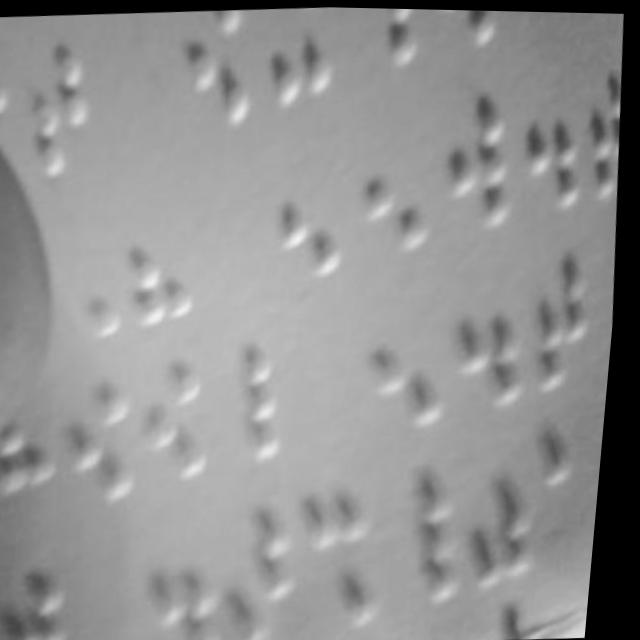braiile: (503, 71, 592, 229), (116, 193, 212, 339), (450, 262, 538, 417), (12, 37, 97, 196), (369, 290, 457, 443), (308, 491, 398, 636), (468, 448, 554, 596), (433, 90, 524, 229), (391, 469, 478, 613), (161, 6, 259, 133), (524, 255, 610, 399), (141, 355, 228, 493), (66, 374, 152, 512), (274, 149, 355, 289), (231, 514, 320, 640), (357, 123, 439, 256), (148, 522, 238, 640), (216, 337, 296, 467), (562, 73, 630, 220), (249, 4, 338, 115), (336, 6, 420, 76), (17, 561, 87, 640), (422, 7, 502, 64)
